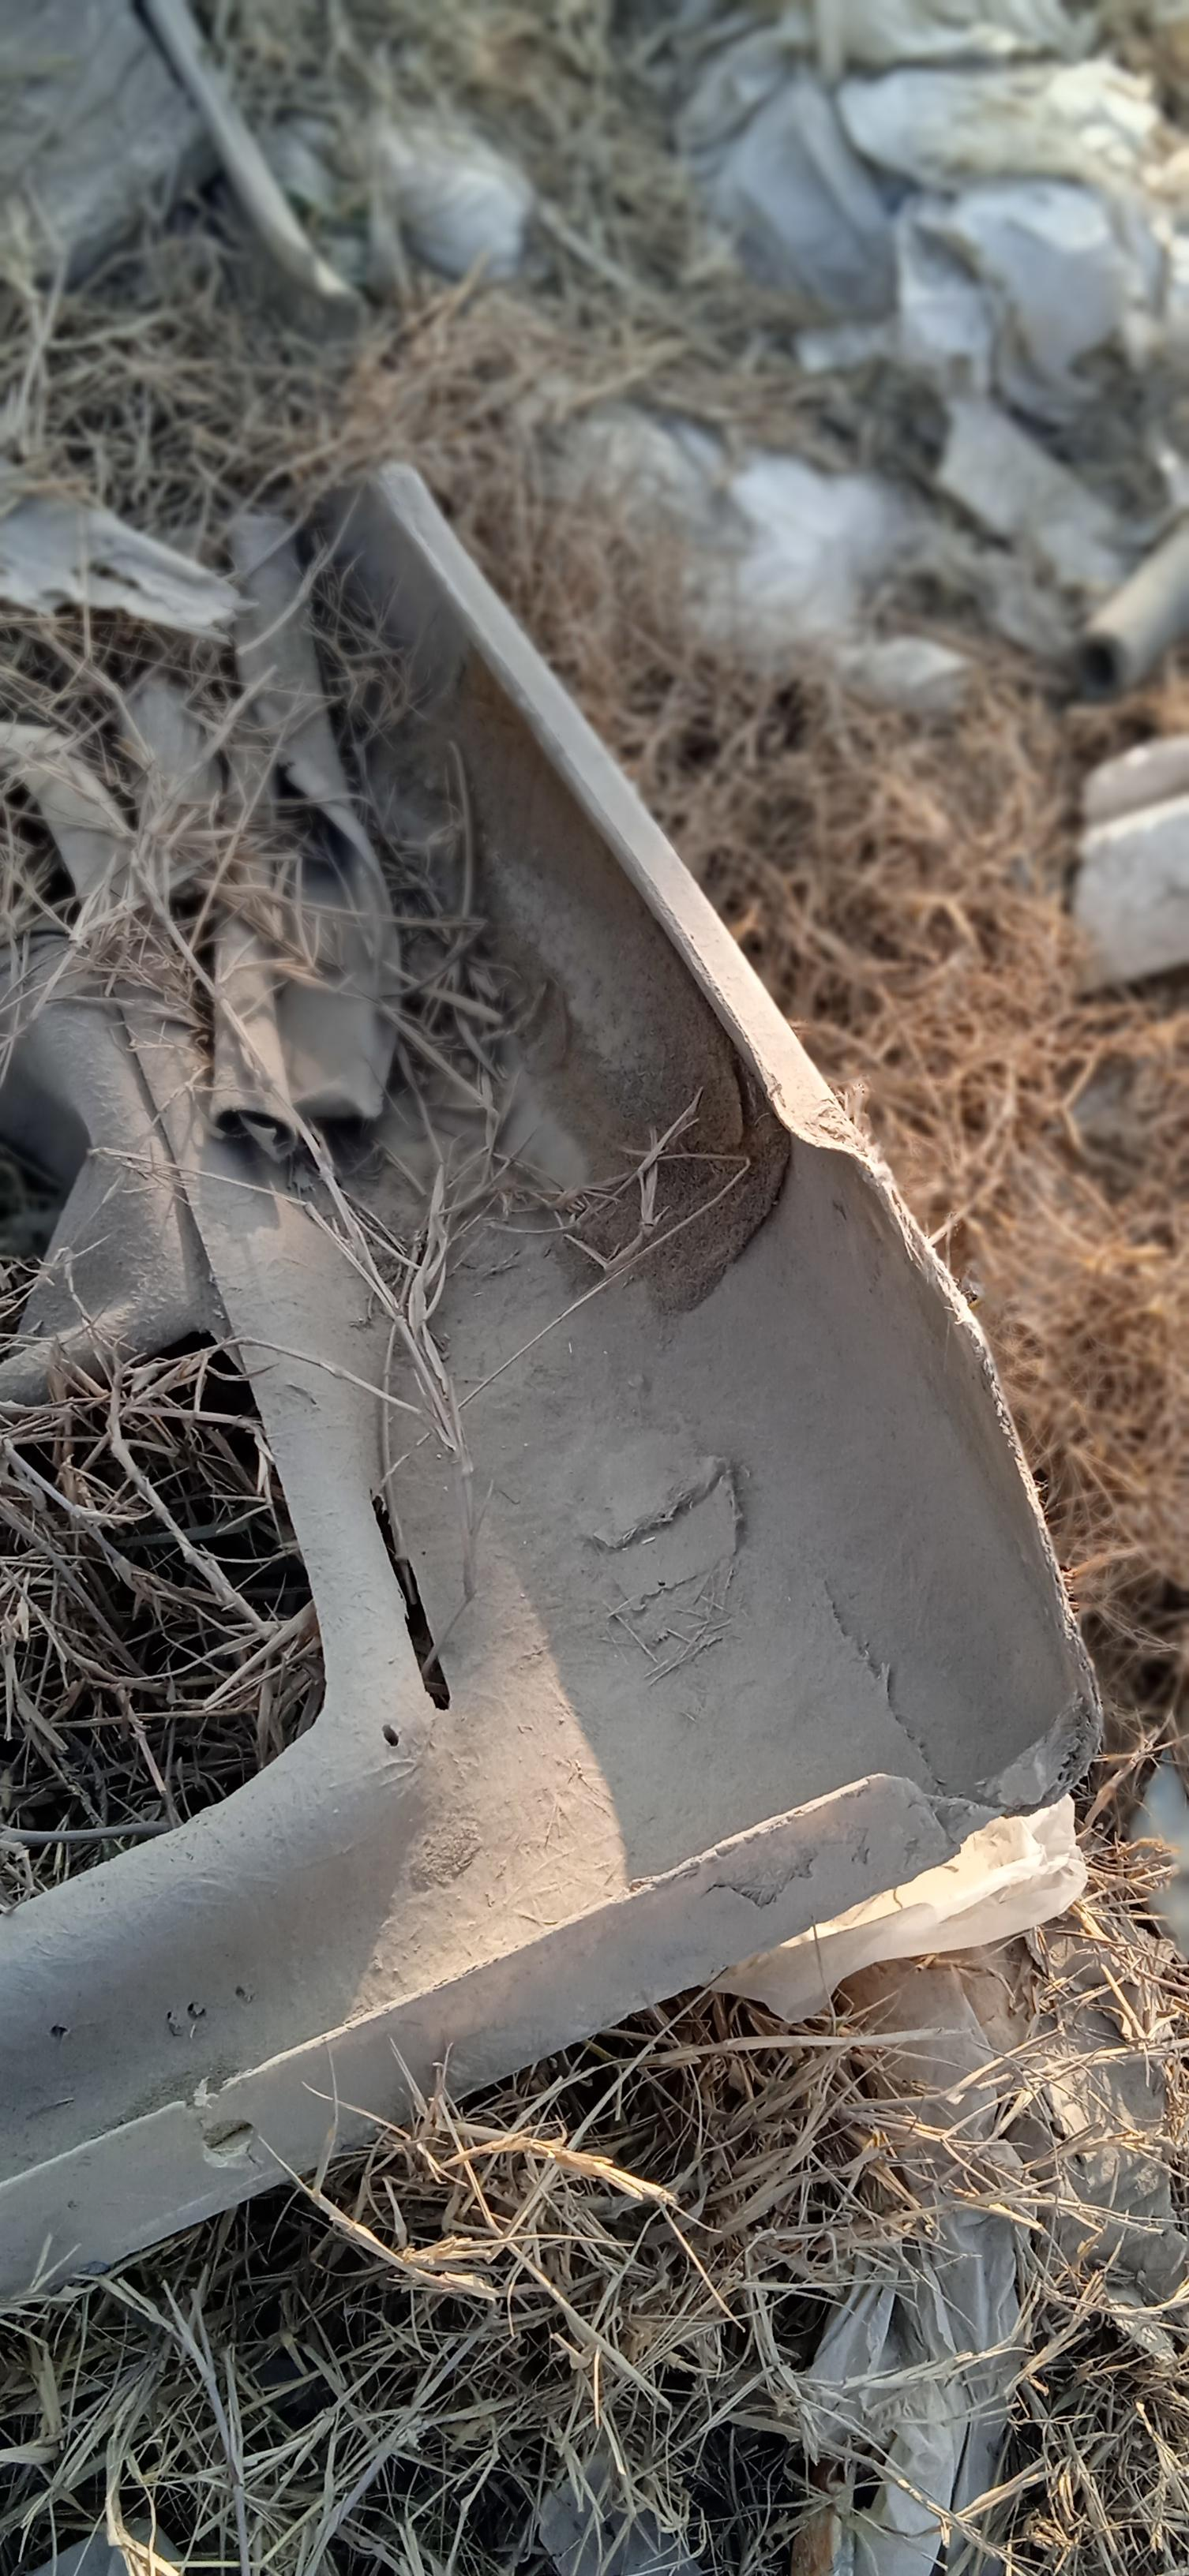automobile: (0, 459, 1101, 2294)
